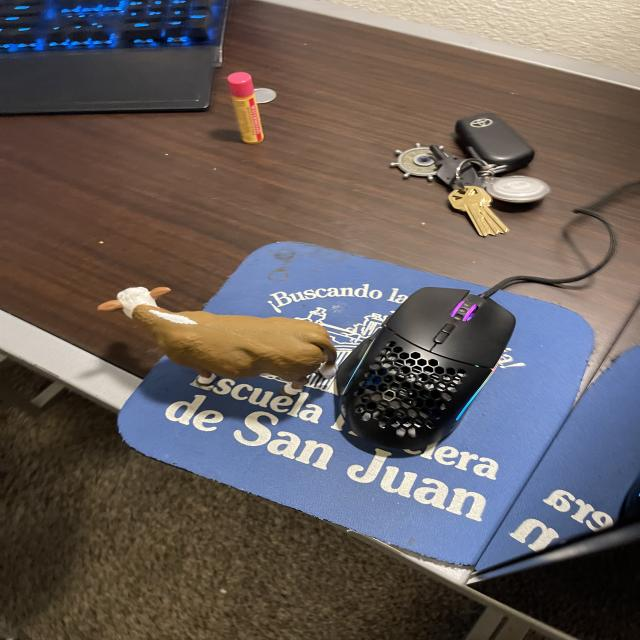cow: (86, 273, 345, 413)
